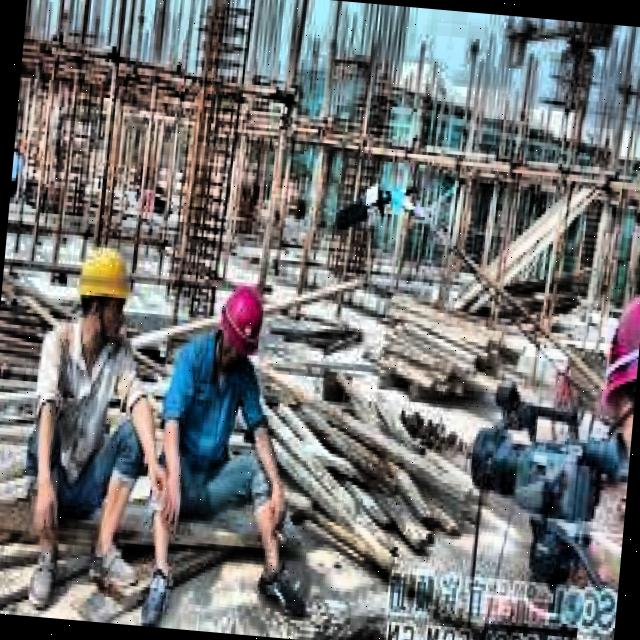helmet: (67, 238, 138, 348), (210, 274, 272, 368)
